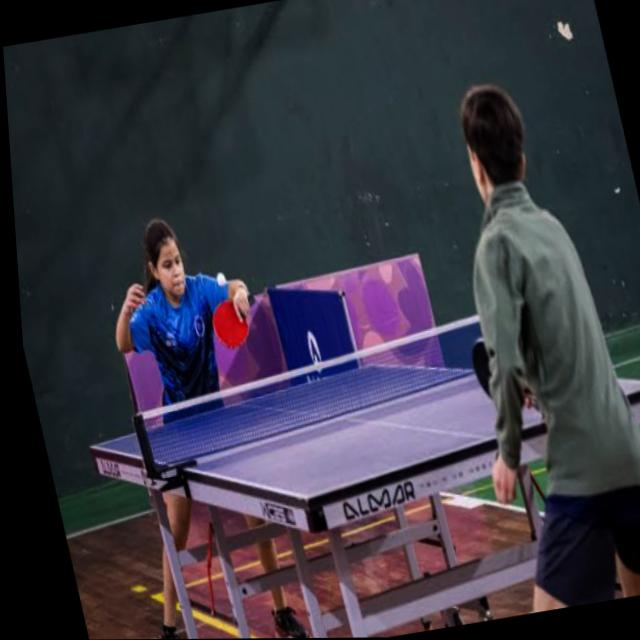TT Net: (128, 296, 544, 482)
TT Racket: (463, 324, 529, 412), (205, 286, 254, 365)
TT Table: (90, 361, 640, 499)
